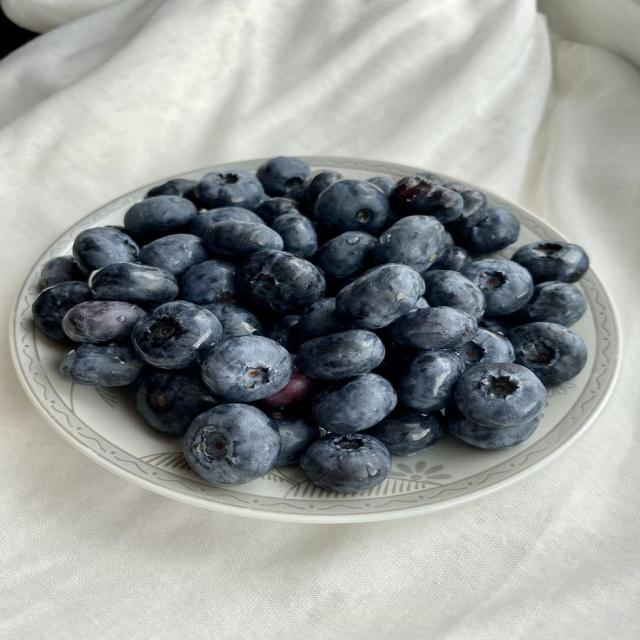blueberry: (183, 404, 280, 486), (132, 301, 222, 368), (201, 336, 292, 401), (454, 363, 546, 427), (336, 264, 425, 329), (236, 250, 326, 313), (136, 370, 218, 437), (300, 434, 391, 492), (312, 374, 397, 433), (507, 323, 586, 385), (298, 330, 385, 380), (446, 404, 540, 449), (398, 350, 464, 412), (374, 215, 444, 272), (463, 259, 533, 315), (314, 180, 389, 232), (389, 306, 477, 349), (89, 263, 178, 305), (367, 408, 443, 455), (389, 175, 463, 223), (33, 282, 93, 341), (60, 344, 144, 386), (62, 301, 145, 343), (451, 206, 519, 255), (514, 282, 586, 326), (513, 241, 588, 283), (267, 408, 321, 466), (423, 270, 486, 319), (204, 220, 283, 259), (74, 227, 139, 274), (124, 196, 197, 237), (314, 231, 377, 278), (139, 234, 207, 277), (195, 169, 266, 209), (261, 356, 313, 407), (181, 260, 236, 304), (373, 333, 416, 388), (297, 298, 351, 341), (455, 328, 514, 366), (257, 157, 310, 199), (188, 207, 262, 237), (204, 303, 262, 339), (272, 213, 318, 258), (446, 183, 486, 227), (40, 256, 86, 288), (263, 314, 299, 352), (306, 171, 342, 206), (255, 198, 300, 224), (326, 269, 367, 297), (145, 179, 196, 199), (432, 245, 471, 271), (430, 229, 453, 270), (368, 176, 395, 197), (479, 316, 510, 334), (416, 171, 448, 186), (443, 181, 467, 192), (415, 297, 429, 309)
